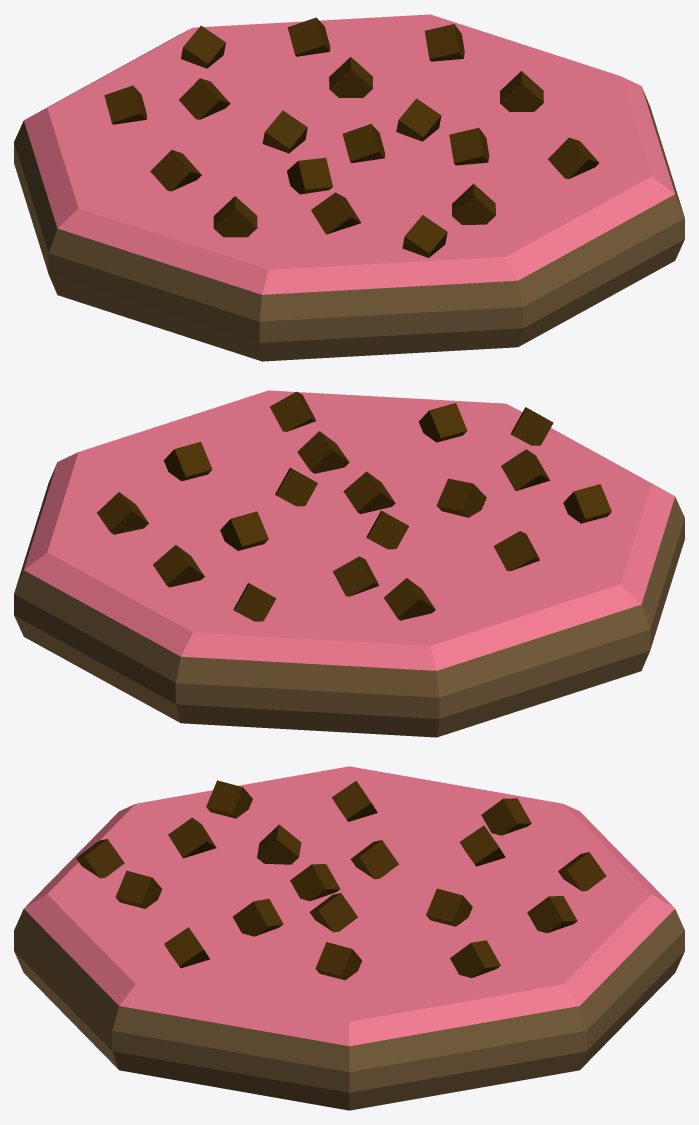
File: C_Cookie_2.fbx
3 renders of one model, top to bottom at view 1: azimuth 30°, elevation 25°; view 2: azimuth 150°, elevation 25°; view 3: azimuth 270°, elevation 25°, orthographic. The views are drawn at different scales.
Parts seen in each view (by area): view 1: C_Cookie_2; view 2: C_Cookie_2; view 3: C_Cookie_2.
Part boxes in pixels (bbox=[...]): C_Cookie_2: bbox=[14, 14, 684, 361]; C_Cookie_2: bbox=[14, 390, 684, 737]; C_Cookie_2: bbox=[14, 766, 684, 1110].
Bounding box in the file's own units: 64.38 × 64.38 × 12.66.
